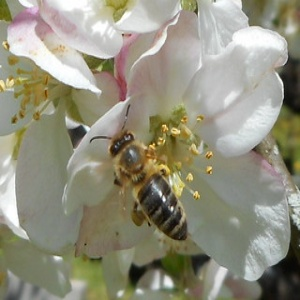bee: (87, 101, 194, 250)
